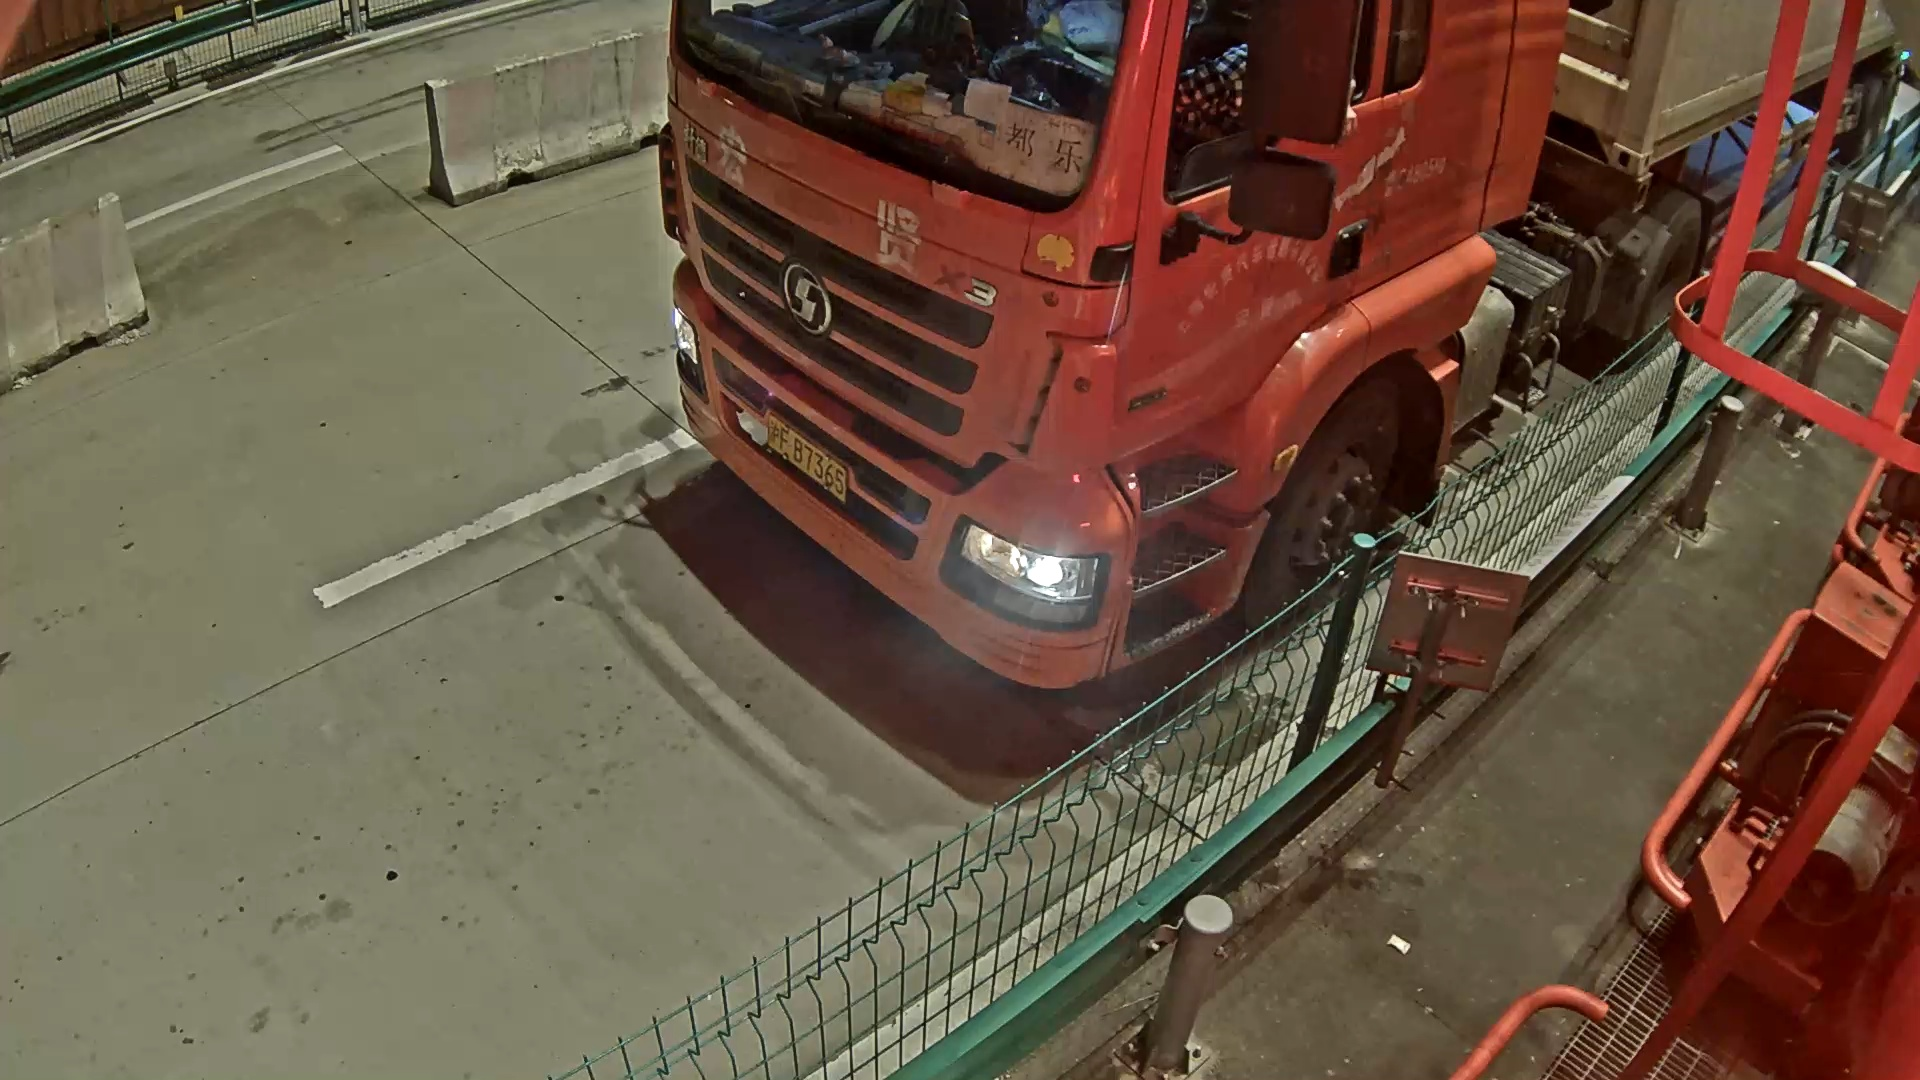head: (668, 1, 1572, 673)
plate: (761, 418, 851, 501)
